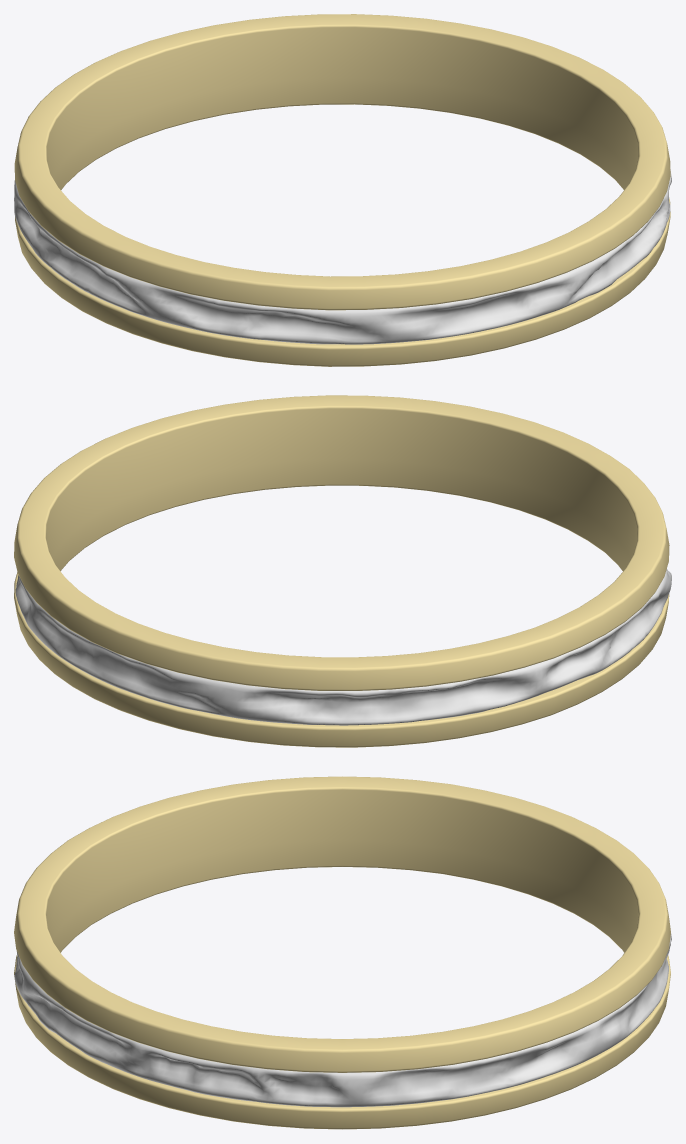
The model's file is Beheyt Artisanaal_174_V1.4.glb.
3 views of the same model, one above another, from view 1: azimuth 30°, elevation 25°; view 2: azimuth 150°, elevation 25°; view 3: azimuth 270°, elevation 25° (orthographic).
Visible parts, largest first — view 1: Circle002, Object002_Low; view 2: Circle002, Object002_Low; view 3: Circle002, Object002_Low.
Part boxes in pixels (x1,y1,x2,y2): Circle002: (14,14,670,366); Object002_Low: (14,169,671,344); Circle002: (14,395,669,747); Object002_Low: (15,569,671,725); Circle002: (14,776,670,1129); Object002_Low: (14,934,671,1107).
Bounding box in the file's own units: 2.62 × 0.35 × 2.61.
